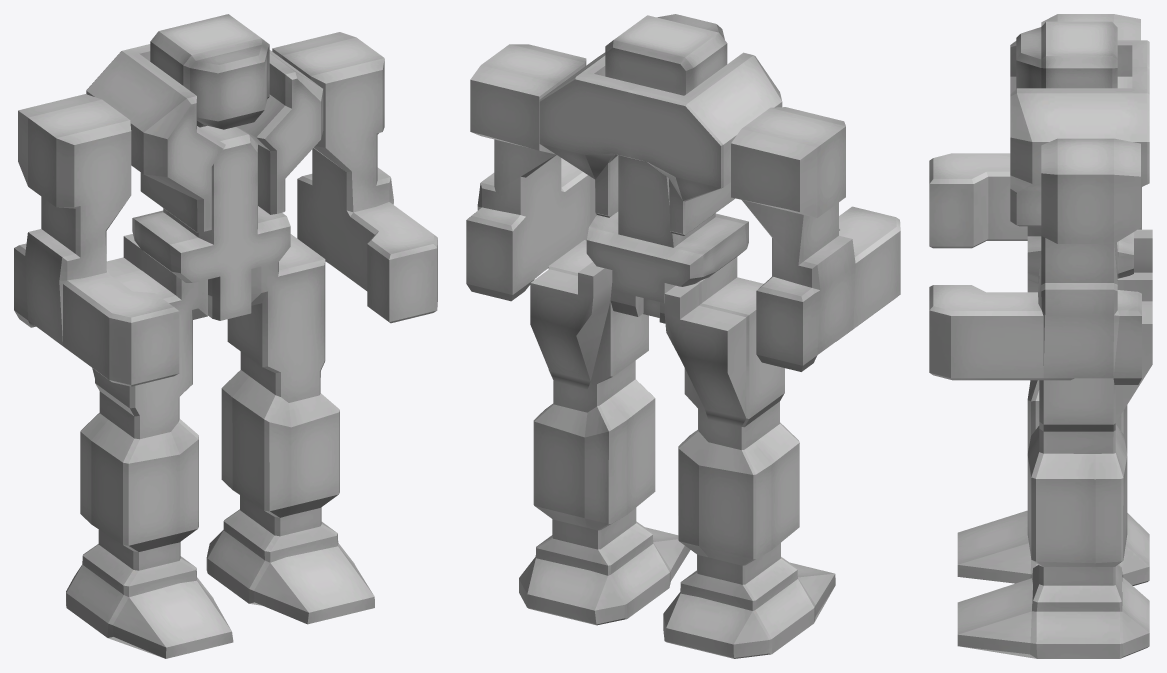
Rendered from uixMdlIndc_mechBlip.fbx.
The picture shows the model from 3 angles, left to right: view 1: azimuth 30°, elevation 25°; view 2: azimuth 150°, elevation 25°; view 3: azimuth 270°, elevation 25°; orthographic projection. The views are drawn at different scales.
Visible parts, largest first — view 1: uixMdlIndc_mechBlip; view 2: uixMdlIndc_mechBlip; view 3: uixMdlIndc_mechBlip.
Part boxes in pixels (x1,y1,x2,y2): uixMdlIndc_mechBlip: (14,14,437,658); uixMdlIndc_mechBlip: (466,14,900,658); uixMdlIndc_mechBlip: (929,14,1152,658).
Bounding box in the file's own units: 5.32 × 8.48 × 3.06.
1 material, 1 textured.
